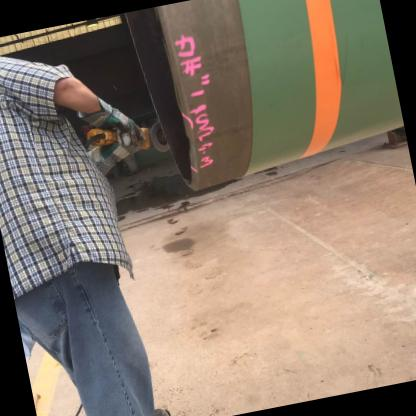Bevel: (179, 132, 199, 154)
